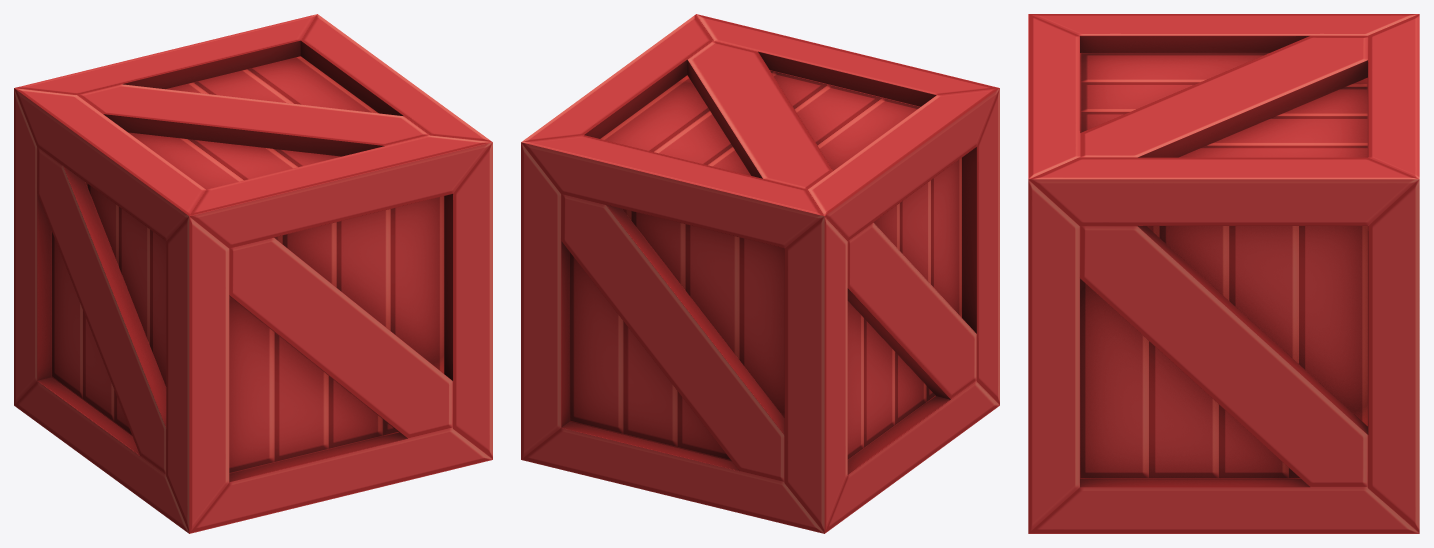
Rendered from crate.fbx.
3 renders of one model, left to right at view 1: azimuth 30°, elevation 25°; view 2: azimuth 150°, elevation 25°; view 3: azimuth 270°, elevation 25°, orthographic. The views are drawn at different scales.
Visible parts, largest first — view 1: woodenCrate; view 2: woodenCrate; view 3: woodenCrate.
Boxes of the visible parts, x1,y1,x2,y2 form: woodenCrate: (14, 14, 492, 533); woodenCrate: (521, 14, 999, 533); woodenCrate: (1028, 14, 1419, 533).
Size of the model in its own units: 0.1061 by 0.1061 by 0.1061.
